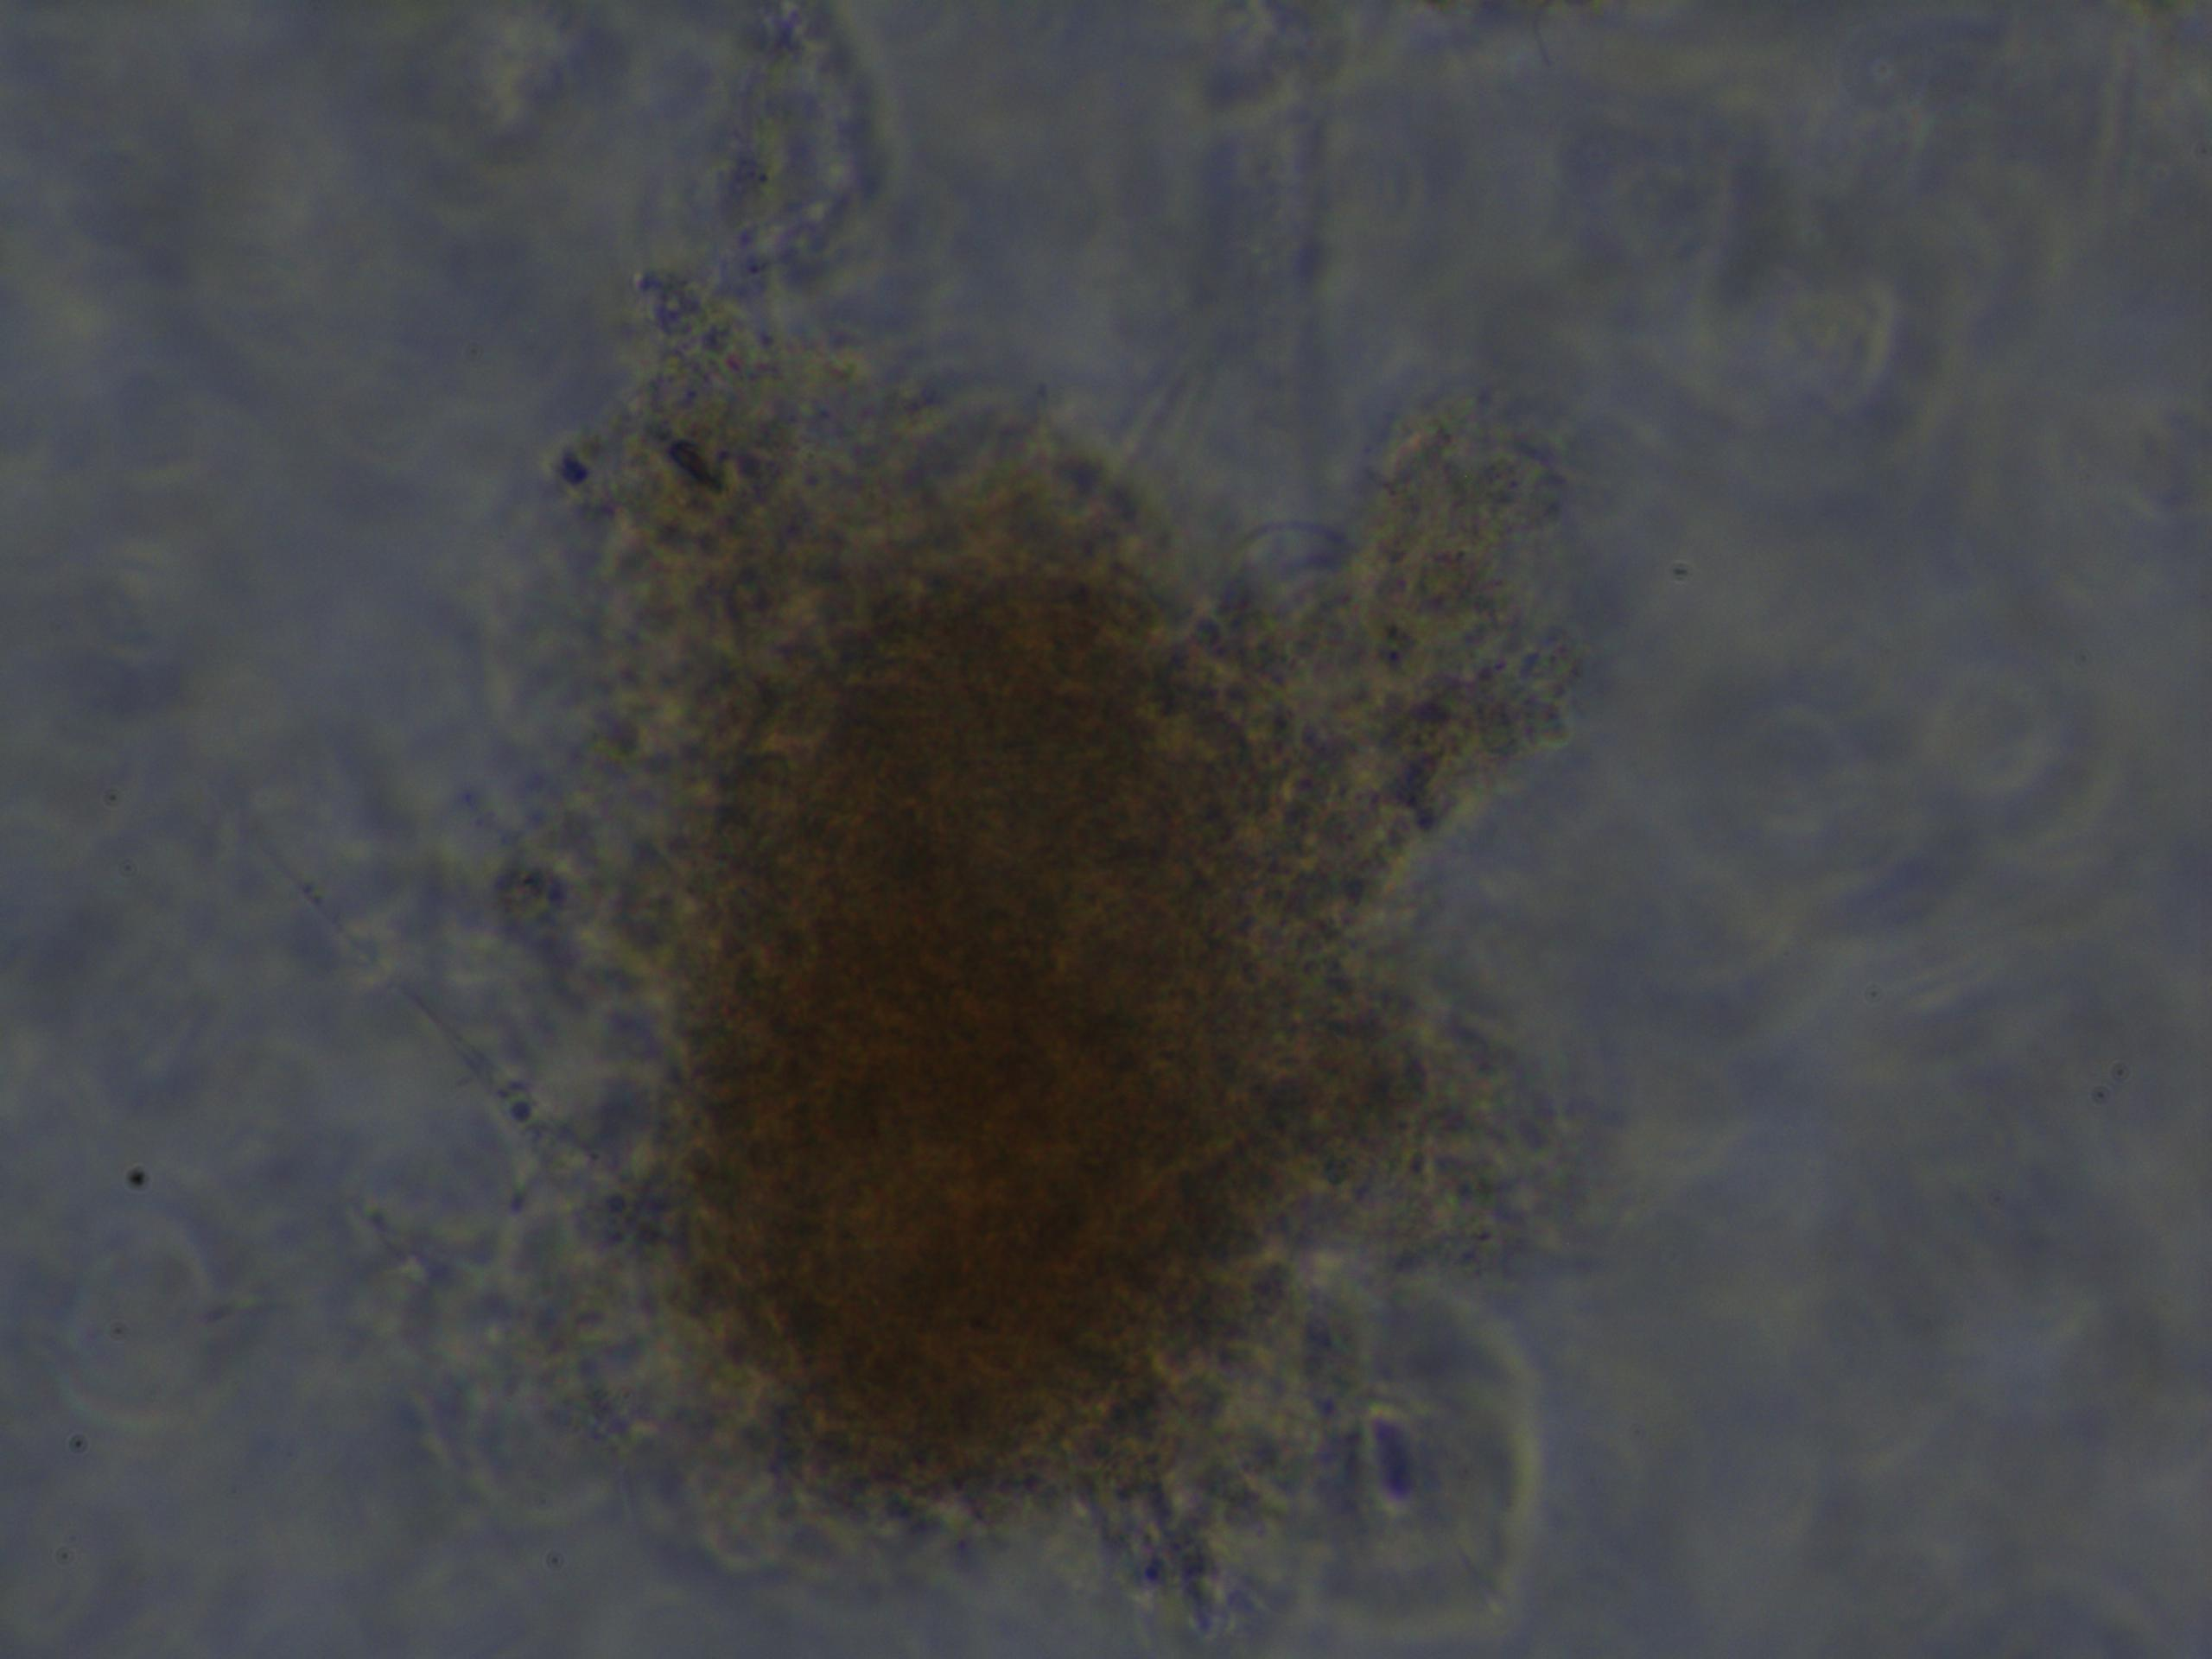spherical_floc: (589, 399, 1460, 1547)
